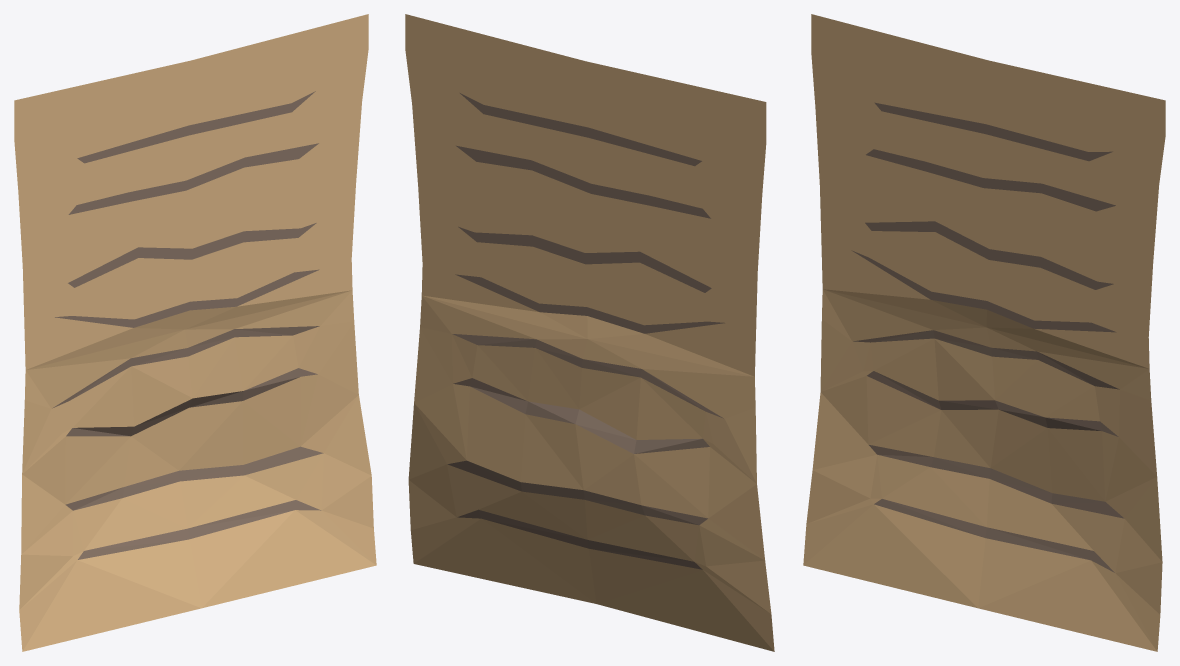
The model's file is SFHW_Paper_024.fbx.
3 renders of one model, left to right at view 1: azimuth 30°, elevation 25°; view 2: azimuth 150°, elevation 25°; view 3: azimuth 330°, elevation 25°, orthographic.
Visible parts, largest first — view 1: SFHW_Paper_024; view 2: SFHW_Paper_024; view 3: SFHW_Paper_024.
Boxes of the visible parts, <box> form: SFHW_Paper_024: <box>14,14,376,651</box>; SFHW_Paper_024: <box>405,14,774,651</box>; SFHW_Paper_024: <box>803,14,1165,651</box>.
Bounding box in the file's own units: 19.26 × 28.34 × 1.66.
